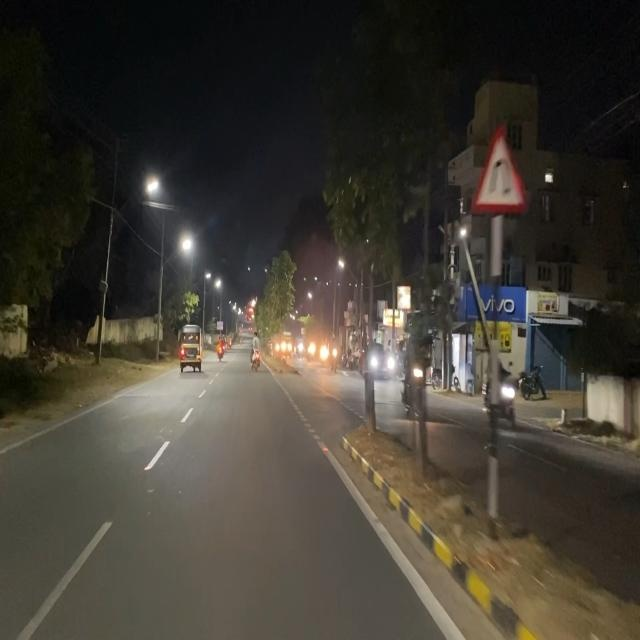bien_nguy_hiem: (471, 124, 526, 218)
